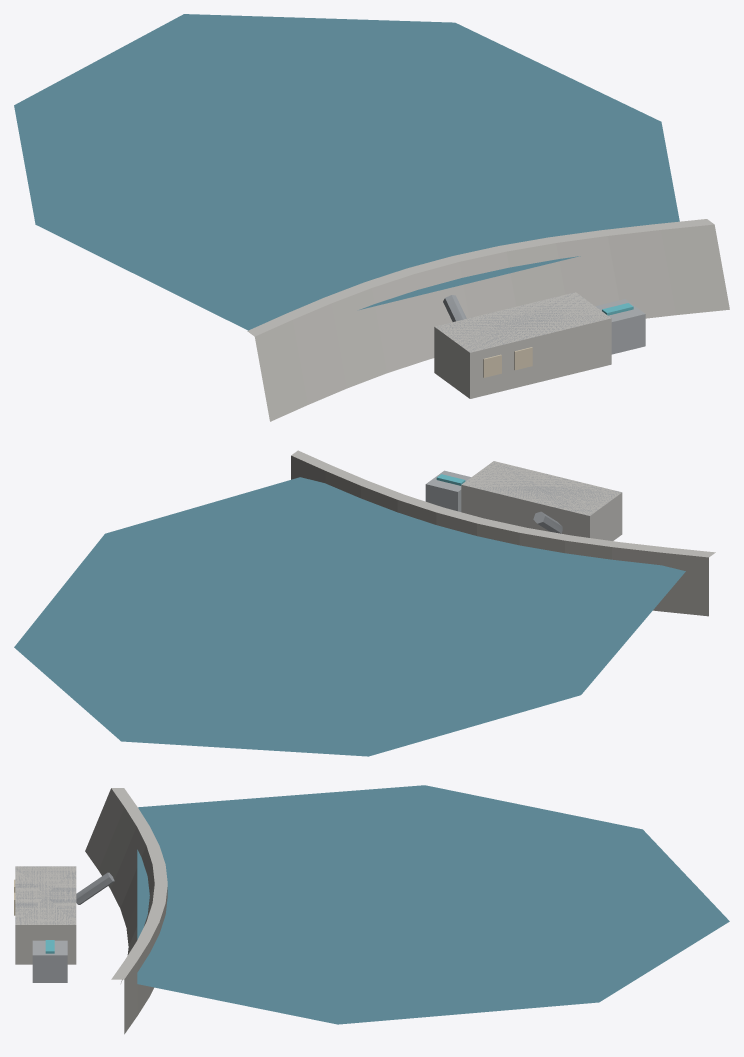
Rendered from plant_hydro_l1.glb.
3 views of the same model, one above another, from view 1: azimuth 30°, elevation 25°; view 2: azimuth 150°, elevation 25°; view 3: azimuth 270°, elevation 25° (orthographic). The views are drawn at different scales.
Visible parts, largest first — view 1: plant_hydro_l1; view 2: plant_hydro_l1; view 3: plant_hydro_l1.
Boxes of the visible parts, <box> form: plant_hydro_l1: <box>14,14,729,421</box>; plant_hydro_l1: <box>14,450,715,756</box>; plant_hydro_l1: <box>14,785,729,1034</box>.
Size of the model in its own units: 130 by 16 by 164.
